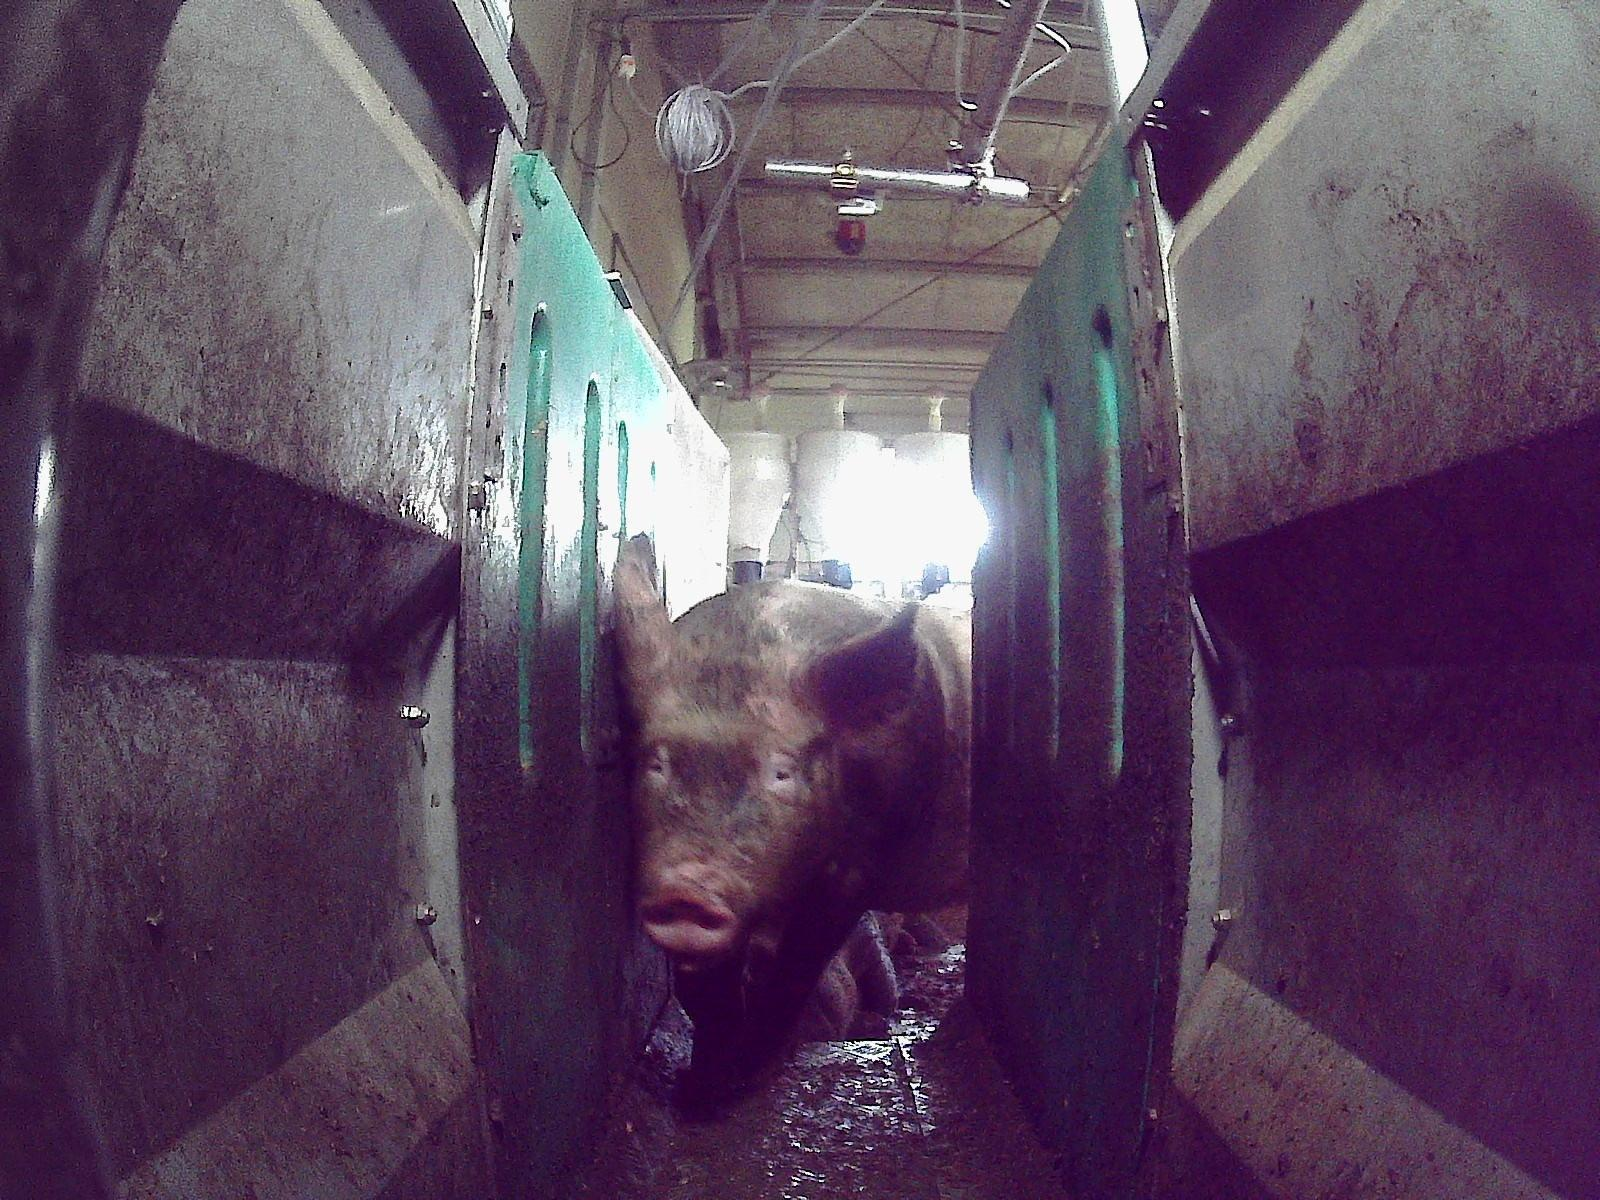Face: (623, 622, 846, 967)
